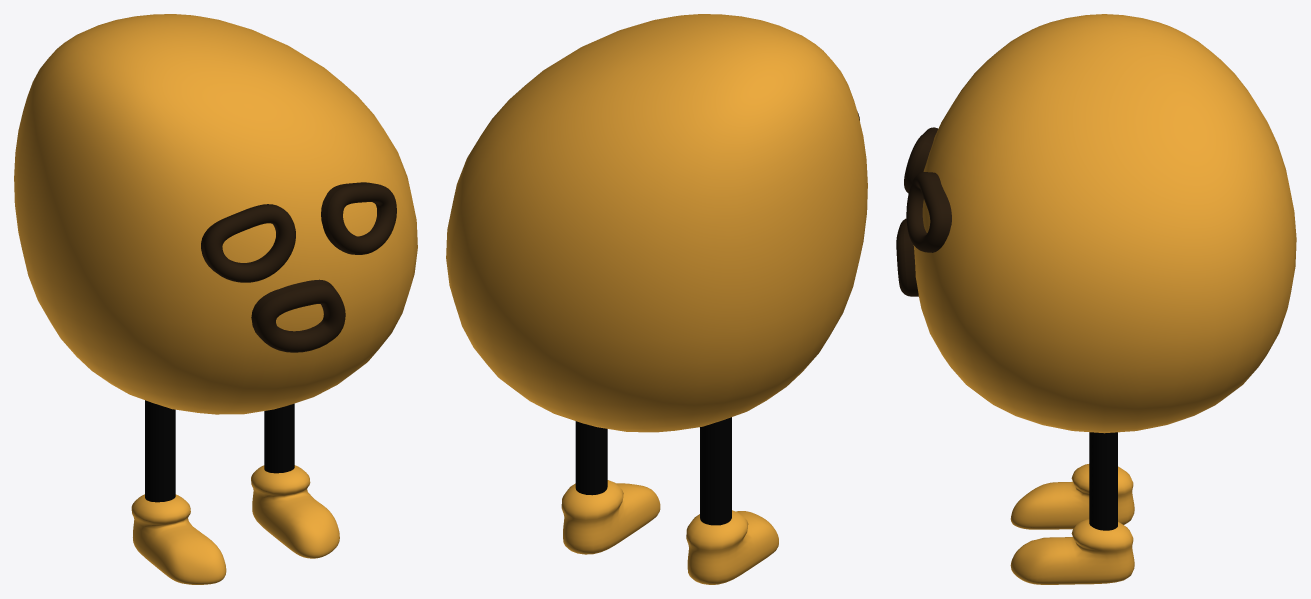
File: smallPotato_E.fbx
The picture shows the model from 3 angles, left to right: view 1: azimuth 30°, elevation 25°; view 2: azimuth 150°, elevation 25°; view 3: azimuth 270°, elevation 25°; orthographic projection. The views are drawn at different scales.
Parts seen in each view (by area): view 1: Potato_E, PotatoShoe_E, PotatoLef_E, Mouth_E, EyeR_E, EyeL_E; view 2: Potato_E, PotatoShoe_E, PotatoLef_E; view 3: Potato_E, PotatoShoe_E, EyeL_E, PotatoLef_E, Mouth_E, EyeR_E.
Boxes of the visible parts, x1,y1,x2,y2 form: Potato_E: [14, 14, 417, 414]; PotatoShoe_E: [131, 465, 339, 584]; PotatoLef_E: [145, 400, 294, 502]; Mouth_E: [251, 279, 345, 352]; EyeR_E: [201, 204, 295, 282]; EyeL_E: [321, 182, 396, 254]; Potato_E: [446, 14, 867, 432]; PotatoShoe_E: [561, 480, 778, 584]; PotatoLef_E: [575, 417, 731, 525]; Potato_E: [913, 14, 1296, 433]; PotatoShoe_E: [1010, 464, 1134, 584]; EyeL_E: [906, 172, 951, 252]; PotatoLef_E: [1089, 432, 1117, 530]; Mouth_E: [896, 218, 918, 296]; EyeR_E: [904, 127, 937, 193].
Bounding box in the file's own units: 66.57 × 97.43 × 71.72.
